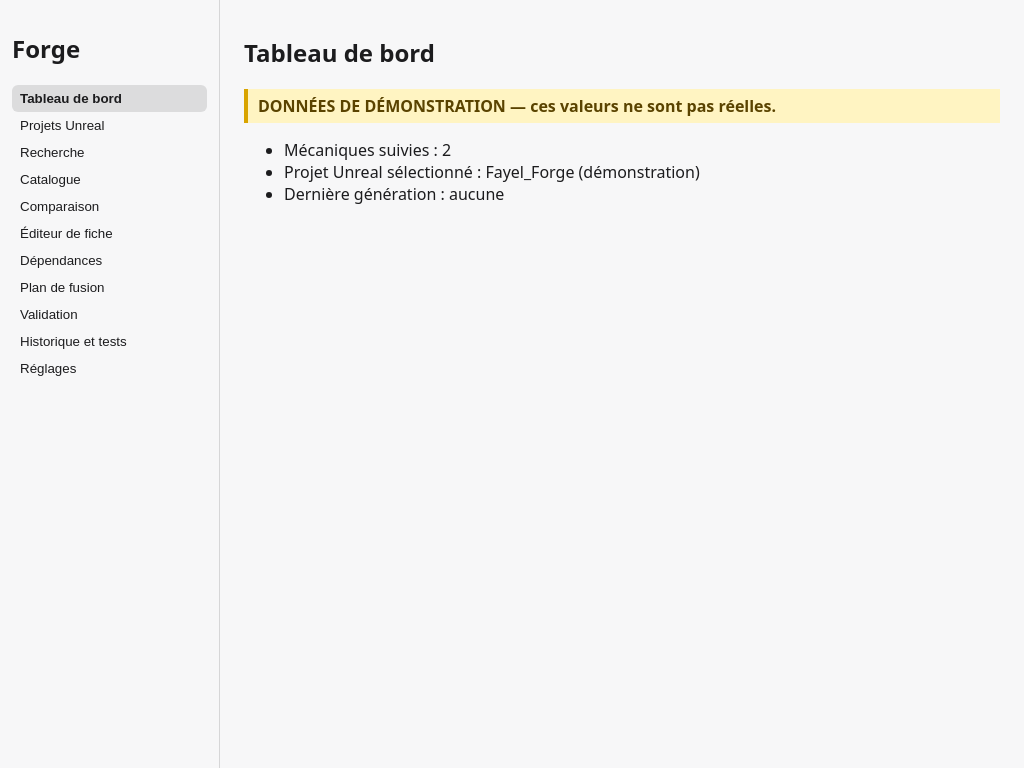
Test case: page Plan de fusion › affiche le refus du cœur métier sans le masquer
Click the button "Plan de fusion" at (110, 287), box [12, 274, 207, 301]
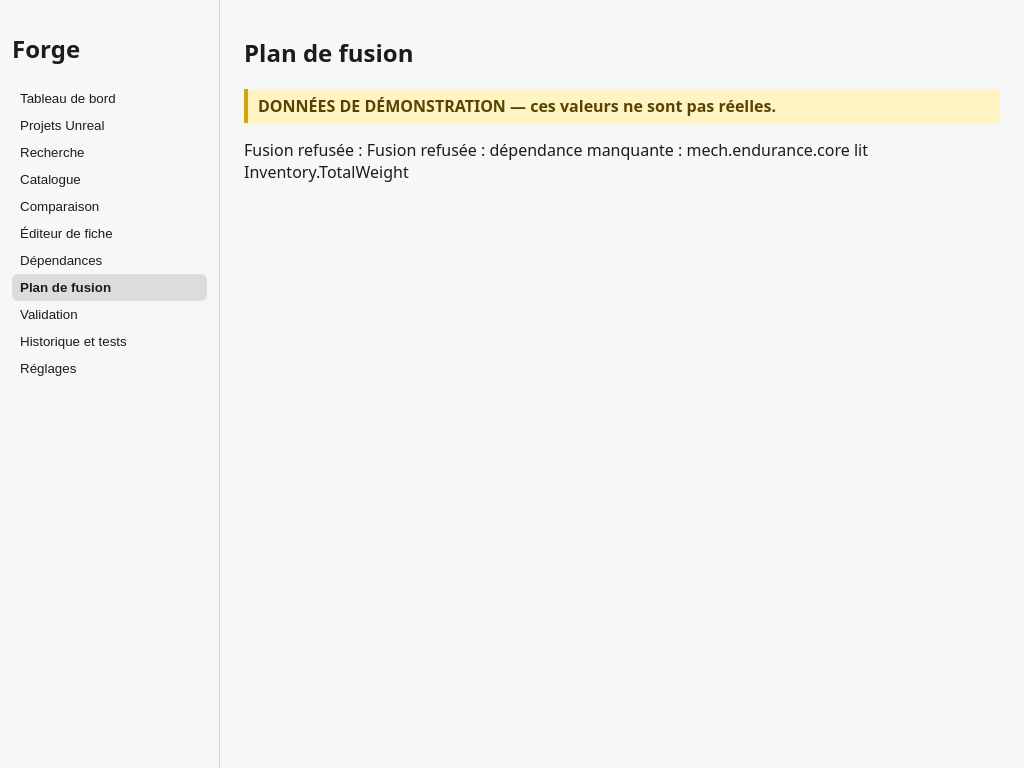
Expected: the text "Fusion refusée : dépendance manquante" is shown, [244, 139, 868, 183]
